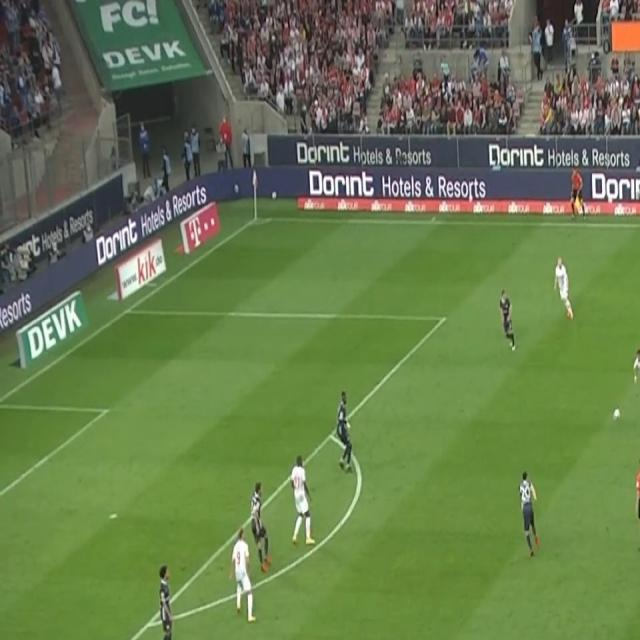ball: (613, 406, 621, 421)
